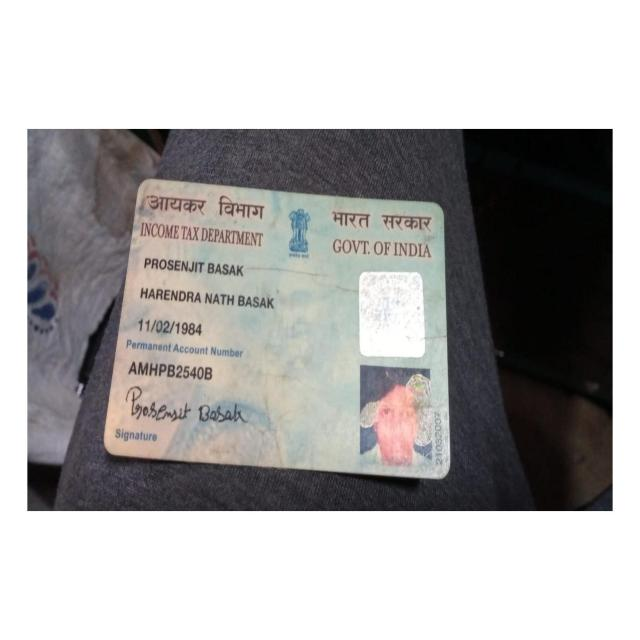pan_card: (106, 183, 449, 473)
